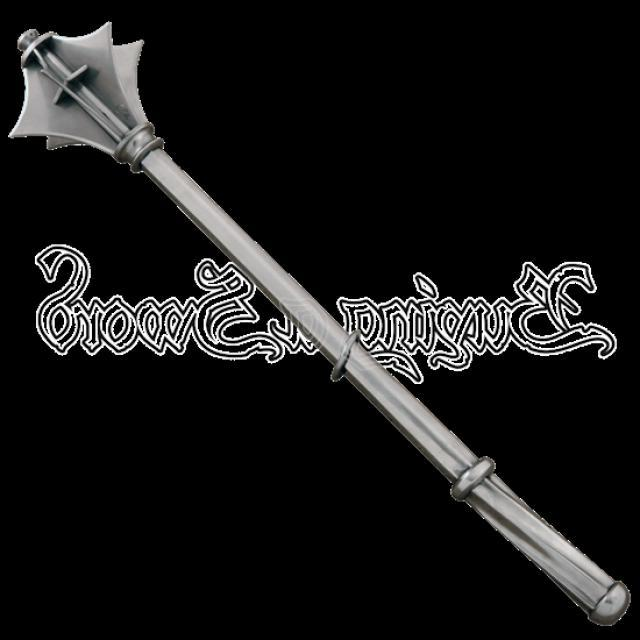mace: (9, 21, 631, 631)
